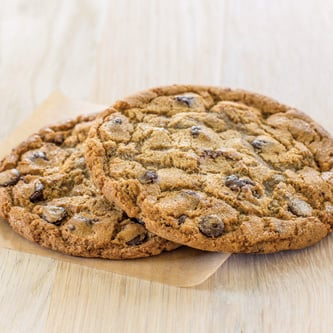sushi: (1, 84, 333, 261)
